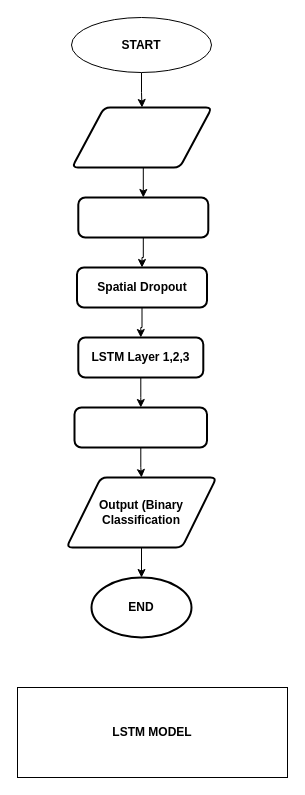
The diagram is 305 pixels wide and 795 high, and some of its shapes have lost their labels. The shapes that lost their labels are listed below. From the top down, each one's box as (x1, y1, x2, y2) in pixels, then its label:
(70, 106, 212, 168): Input (Integer Sequences)
(77, 196, 209, 238): Embedding Layer
(73, 406, 208, 448): Dense Layer 1,2
